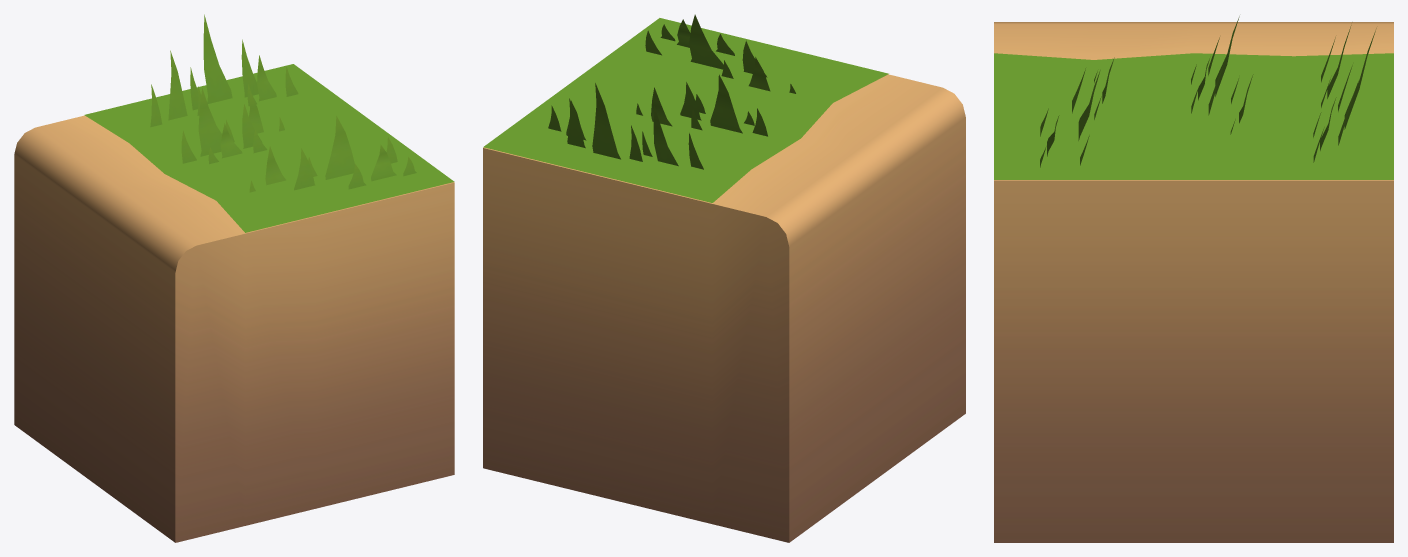
The model's file is side l tile.fbx.
The picture shows the model from 3 angles, left to right: view 1: azimuth 30°, elevation 25°; view 2: azimuth 150°, elevation 25°; view 3: azimuth 270°, elevation 25°; orthographic projection. The views are drawn at different scales.
Visible parts, largest first — view 1: s_l_ground, s_l, s_l_grass; view 2: s_l_ground, s_l, s_l_grass; view 3: s_l_ground, s_l, s_l_grass.
Part boxes in pixels (x1,y1,x2,y2): s_l_ground: (14, 115, 454, 542); s_l: (84, 64, 454, 232); s_l_grass: (150, 14, 416, 192); s_l_ground: (483, 74, 965, 542); s_l: (483, 18, 888, 202); s_l_grass: (548, 14, 795, 169); s_l_ground: (994, 22, 1393, 542); s_l: (994, 53, 1393, 179); s_l_grass: (1040, 16, 1376, 167).
Size of the model in its own units: 10 by 12.69 by 10.
